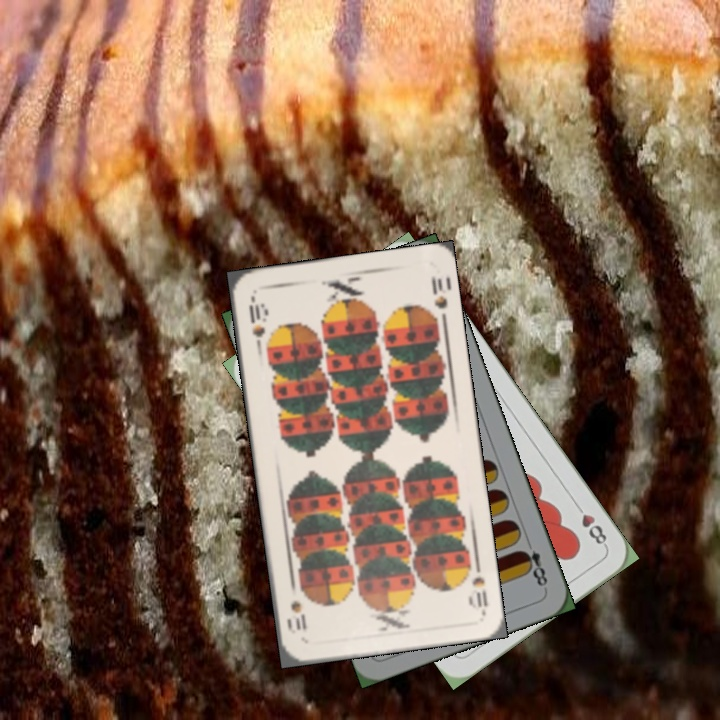E8: (516, 535, 550, 592)
H8: (570, 499, 610, 550)
S10: (462, 555, 491, 614), (244, 293, 268, 352)
